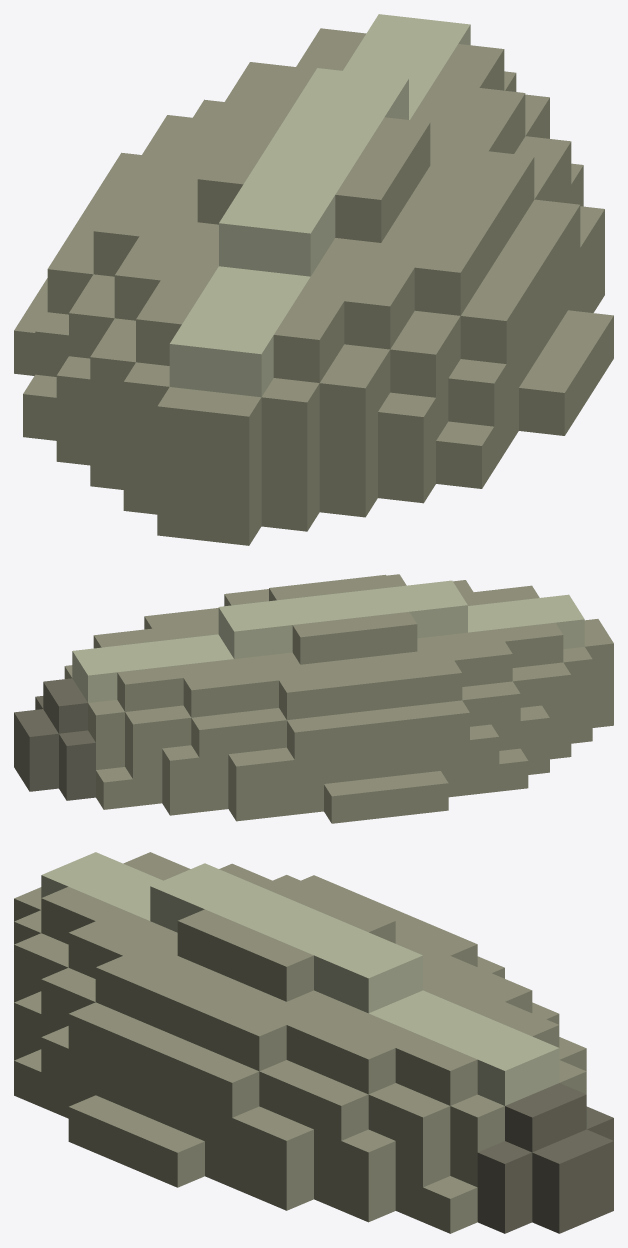
Rendered from item_PETRIFIED_SEED.glb.
The picture shows the model from 3 angles, top to bottom: view 1: azimuth 30°, elevation 25°; view 2: azimuth 150°, elevation 25°; view 3: azimuth 270°, elevation 25°; orthographic projection. The views are drawn at different scales.
Visible parts, largest first — view 1: item_PETRIFIED_SEED; view 2: item_PETRIFIED_SEED; view 3: item_PETRIFIED_SEED.
Boxes of the visible parts, left/top/right/bottom form: item_PETRIFIED_SEED: left=14, top=14, right=613, bottom=545; item_PETRIFIED_SEED: left=14, top=574, right=613, bottom=823; item_PETRIFIED_SEED: left=14, top=852, right=613, bottom=1233.
Bounding box in the file's own units: 0.1768 × 0.0568 × 0.1768.
Materials: 1 (1 with a texture image).
